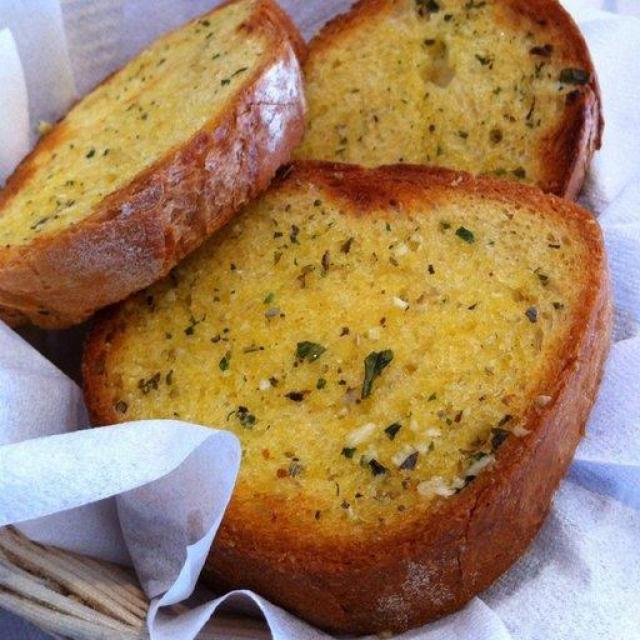food_waste: (115, 193, 576, 591), (116, 13, 311, 515), (320, 2, 579, 224)
